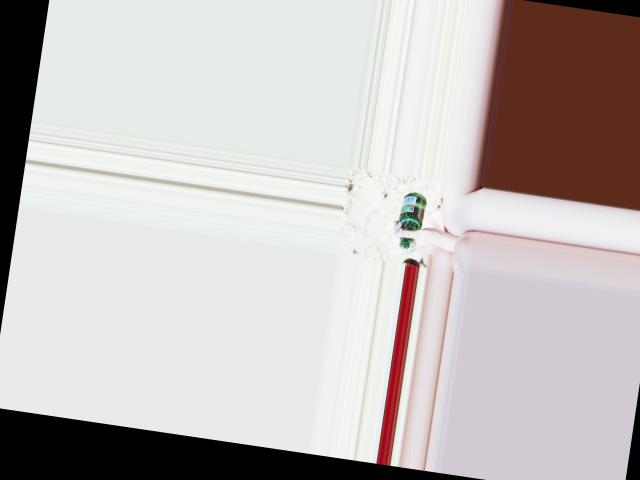beer: (395, 190, 428, 251)
